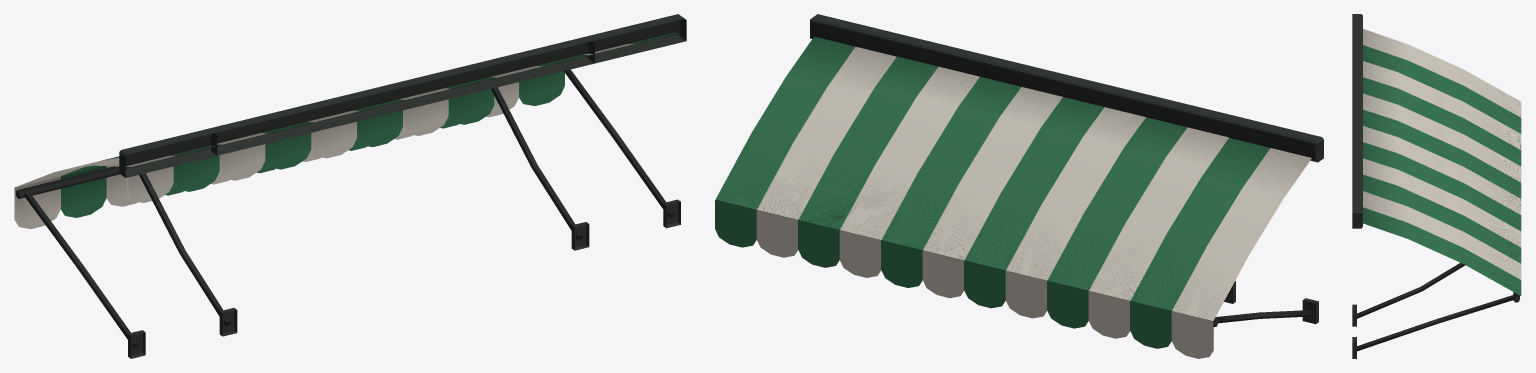
Rendered from kit_awnings.glb.
3 renders of one model, left to right at view 1: azimuth 30°, elevation 25°; view 2: azimuth 150°, elevation 25°; view 3: azimuth 270°, elevation 25°, orthographic. The views are drawn at different scales.
Visible parts, largest first — view 1: awning_3m_green, awning_2m_green; view 2: awning_3m_green, awning_2m_green; view 3: awning_3m_green, awning_2m_green.
Part boxes in pixels (x1,y1,x2,y2): awning_3m_green: (14,14,686,358); awning_2m_green: (127,36,594,336); awning_3m_green: (715,14,1323,358); awning_2m_green: (847,34,1238,303); awning_3m_green: (1352,14,1521,358); awning_2m_green: (1352,46,1465,326).
Size of the model in its own units: 3.06 by 1.07 by 1.1.
